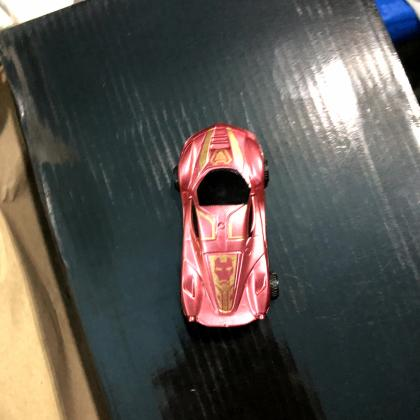Car: (170, 120, 282, 330)
